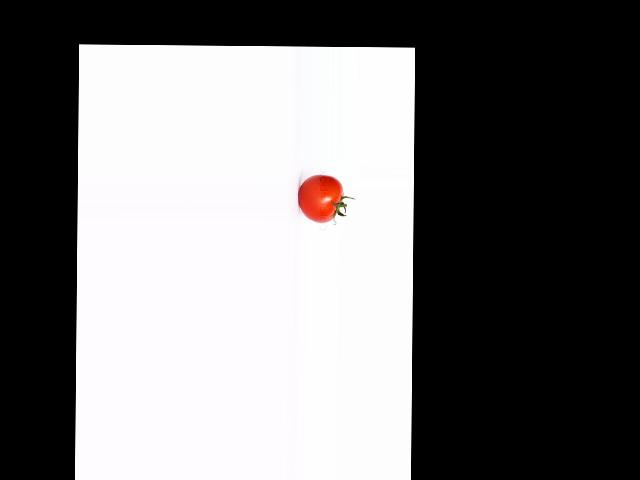tomato: (298, 174, 343, 222)
